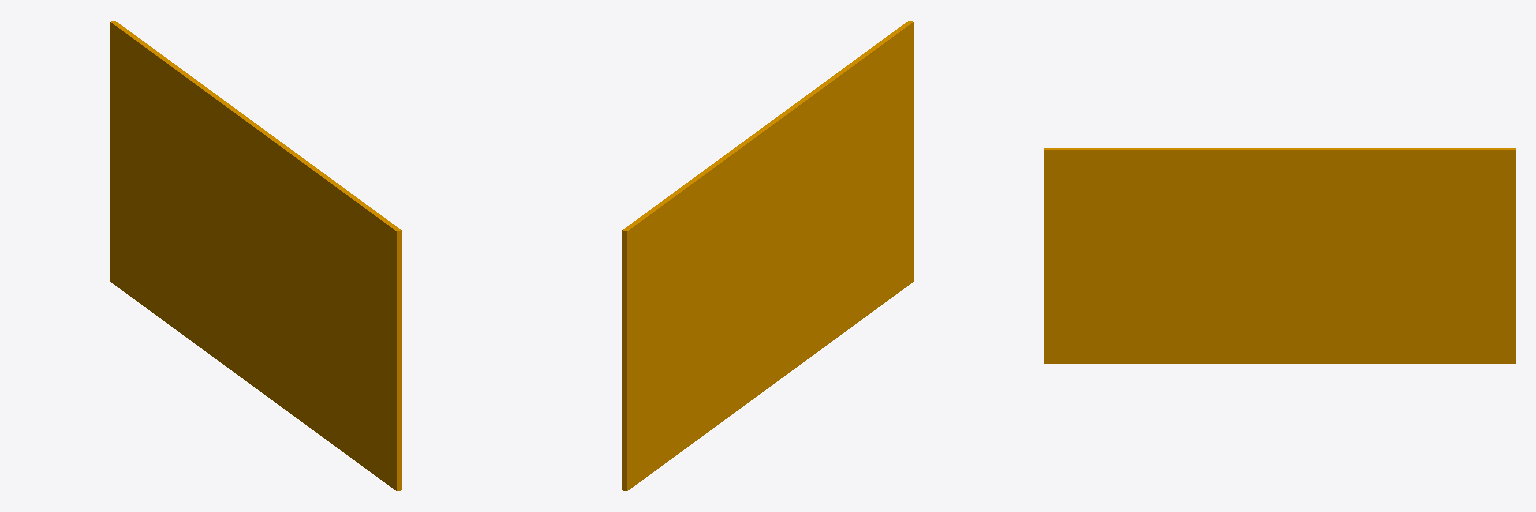
URDF robot description (back_wall):
<?xml version='1.0' encoding='UTF-8'?>
<robot name="back_wall">
  <link name="base_link">
    <inertial>
      <origin xyz="0.0 0.0 0.0" rpy="0.0 -0.0 0.0"/>
      <mass value="1.0"/>
      <inertia ixx="1.0" ixy="0.0" ixz="0.0" iyy="1.0" iyz="0.0" izz="1.0"/>
    </inertial>
    <visual name="base_link_visual">
      <geometry>
        <box size="0.2 20 10"/>
      </geometry>
      <origin xyz="0 0 0" rpy="0 0 0"/>
    </visual>
    <collision name="base_link_collision">
      <geometry>
        <box size="0.2 20 10"/>
      </geometry>
      <origin xyz="0 0 0" rpy="0 0 0"/>
    </collision>
  </link>
</robot>

--- Facts derived from the render (not from the file) ---
3 views of the same robot in one strip: view 1: azimuth 30°, elevation 25°; view 2: azimuth 150°, elevation 25°; view 3: azimuth 270°, elevation 25° (orthographic).
Robot: back_wall — 1 links, 0 joints (none); root link base_link; default pose: every joint at zero.
Links seen in each view (by area): view 1: base_link; view 2: base_link; view 3: base_link.
Link boxes in pixels (<box>): base_link: <box>110,21,401,490</box>; base_link: <box>622,21,913,490</box>; base_link: <box>1044,148,1515,363</box>.
Bounding box of the posed robot: 0.2 × 20 × 10 m (x, y, z).
Geometry: primitives only (box / cylinder / sphere), no mesh files.